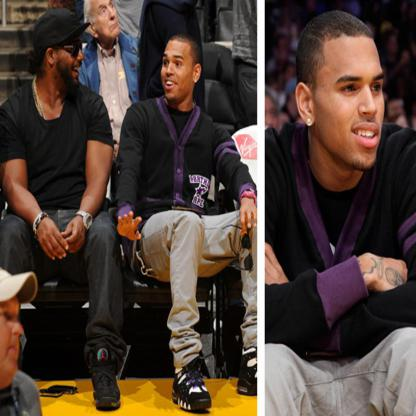face: (313, 25, 386, 169), (162, 40, 195, 102), (56, 18, 84, 83), (88, 4, 122, 37)
